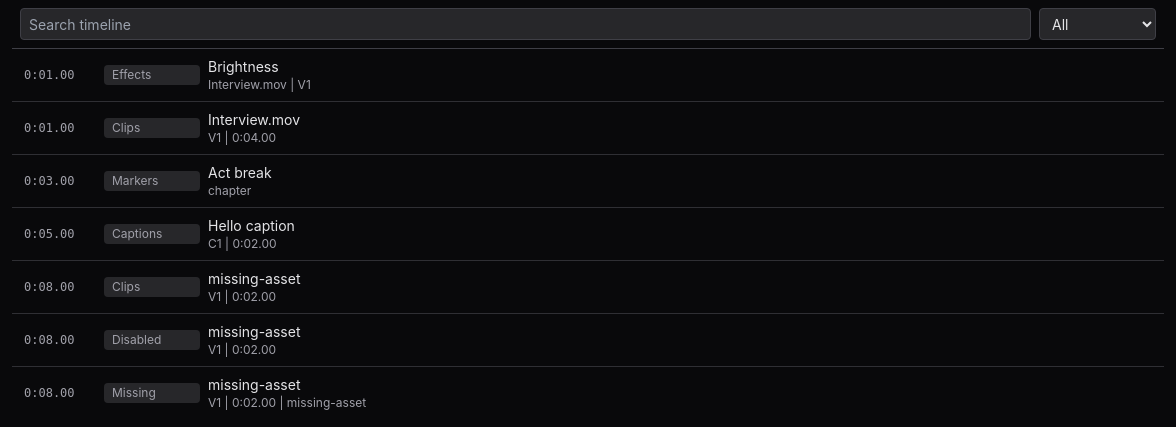
Scenario: TimelineIndexPanel › filters by query
Type "caption" into the field named "Search timeline index".
click(526, 24); type("caption")  # box [20,8,1031,40]
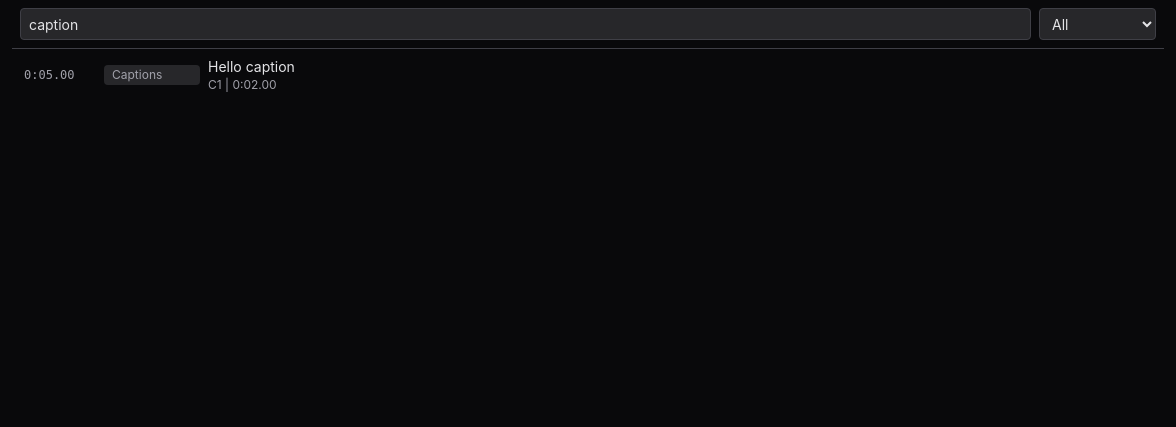
Expected: the text "Hello caption" is shown, [208,58,295,75]
Result: the button "Interview.mov" is gone
